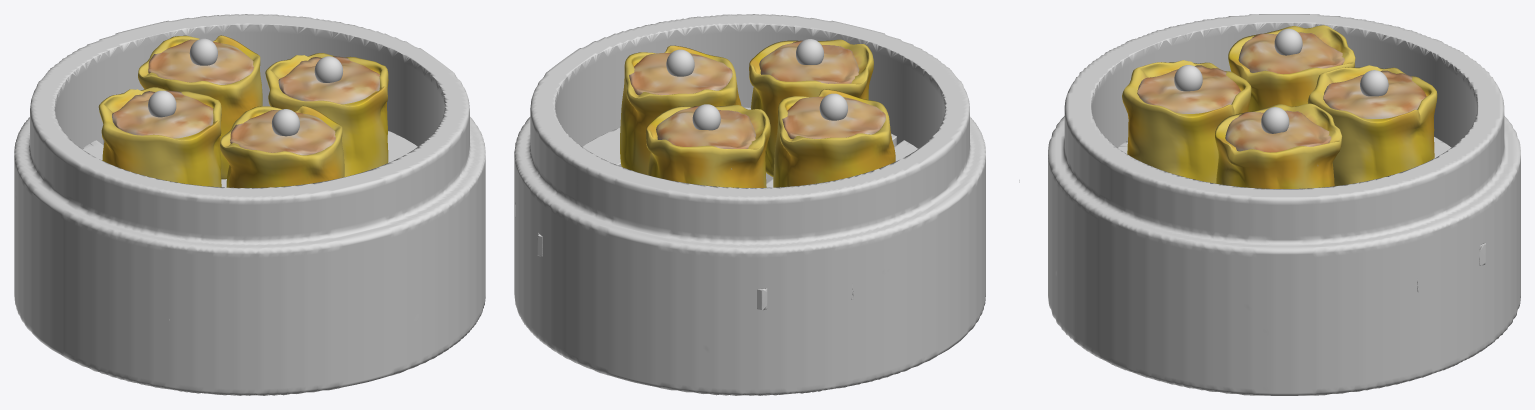
The model's file is manduu.fbx.
3 views of the same model, side by side, from view 1: azimuth 30°, elevation 25°; view 2: azimuth 150°, elevation 25°; view 3: azimuth 270°, elevation 25° (orthographic).
Parts seen in each view (by area): view 1: 원통 (×2), 원통 4, 원통 6, 원통 2, 원통 7, 원통 5, 원통 3, 원통 1, 상자 1, 구체 1, 구체 2, 구체 (+1 smaller); view 2: 원통 (×2), 원통 4, 원통 2, 원통 6, 원통 5, 원통 7, 원통 1, 원통 3, 상자 1, 구체 2, 구체 3, 구체 1 (+1 smaller); view 3: 원통 (×2), 원통 2, 원통 6, 원통 4, 원통 1, 원통 3, 원통 7, 원통 5, 구체 1, 구체, 구체 2, 구체 3 (+1 smaller).
Boxes of the visible parts, bbox=[...] form: 원통 (×2): bbox=[14, 14, 485, 395]; 원통 4: bbox=[98, 87, 221, 187]; 원통 6: bbox=[265, 53, 388, 176]; 원통 2: bbox=[138, 35, 262, 179]; 원통 7: bbox=[278, 56, 379, 104]; 원통 5: bbox=[112, 90, 213, 138]; 원통 3: bbox=[148, 39, 253, 84]; 원통 1: bbox=[230, 110, 335, 155]; 상자 1: bbox=[82, 131, 417, 320]; 구체 1: bbox=[189, 38, 217, 65]; 구체 2: bbox=[148, 90, 176, 117]; 구체: bbox=[271, 109, 299, 136]; 원통 (×2): bbox=[514, 14, 985, 395]; 원통 4: bbox=[773, 89, 895, 187]; 원통 2: bbox=[645, 105, 770, 187]; 원통 6: bbox=[620, 45, 741, 174]; 원통 5: bbox=[782, 96, 885, 138]; 원통 7: bbox=[629, 53, 732, 95]; 원통 1: bbox=[759, 40, 859, 83]; 원통 3: bbox=[656, 106, 755, 169]; 상자 1: bbox=[515, 107, 1019, 310]; 구체 2: bbox=[819, 93, 847, 120]; 구체 3: bbox=[666, 49, 694, 76]; 구체 1: bbox=[692, 104, 720, 130]; 원통 (×2): bbox=[1048, 14, 1520, 395]; 원통 2: bbox=[1307, 65, 1437, 185]; 원통 6: bbox=[1215, 103, 1342, 188]; 원통 4: bbox=[1228, 25, 1355, 111]; 원통 1: bbox=[1137, 65, 1240, 113]; 원통 3: bbox=[1323, 70, 1426, 118]; 원통 7: bbox=[1225, 110, 1331, 165]; 원통 5: bbox=[1238, 32, 1344, 74]; 구체 1: bbox=[1360, 70, 1388, 96]; 구체: bbox=[1174, 65, 1202, 91]; 구체 2: bbox=[1274, 28, 1302, 55]; 구체 3: bbox=[1261, 107, 1289, 133].
Bounding box in the file's own units: 0.9989 × 0.526 × 0.9996.
